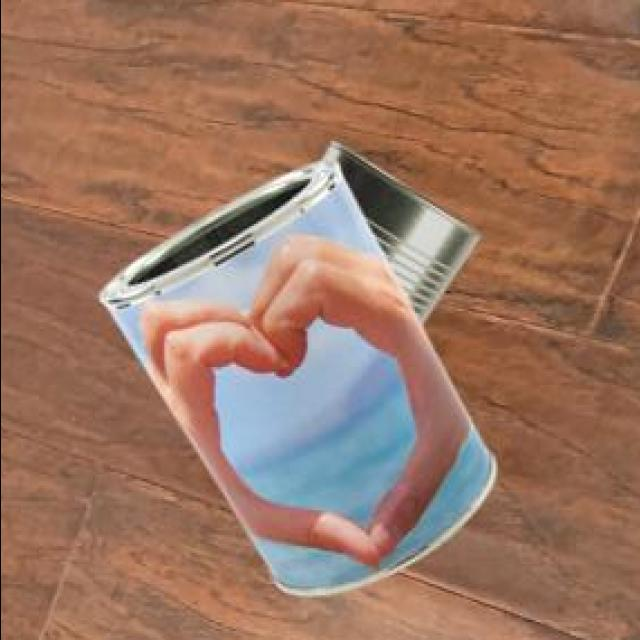logam: (95, 158, 491, 590), (319, 138, 476, 321)
